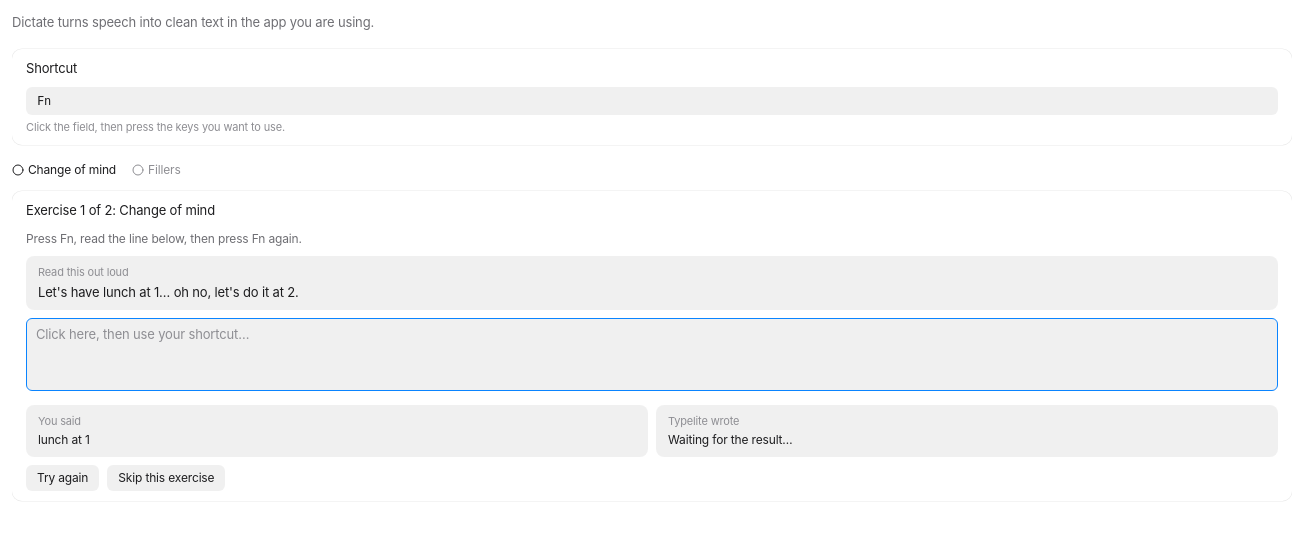
Test: Dictate exercises › shows a miss for a run that kept "at 1", and Try again resets the card
Type "Let's have lunch at 1." into the text box named "Try it" at (652, 354), box top-left (26, 318), bottom-right (1278, 391)
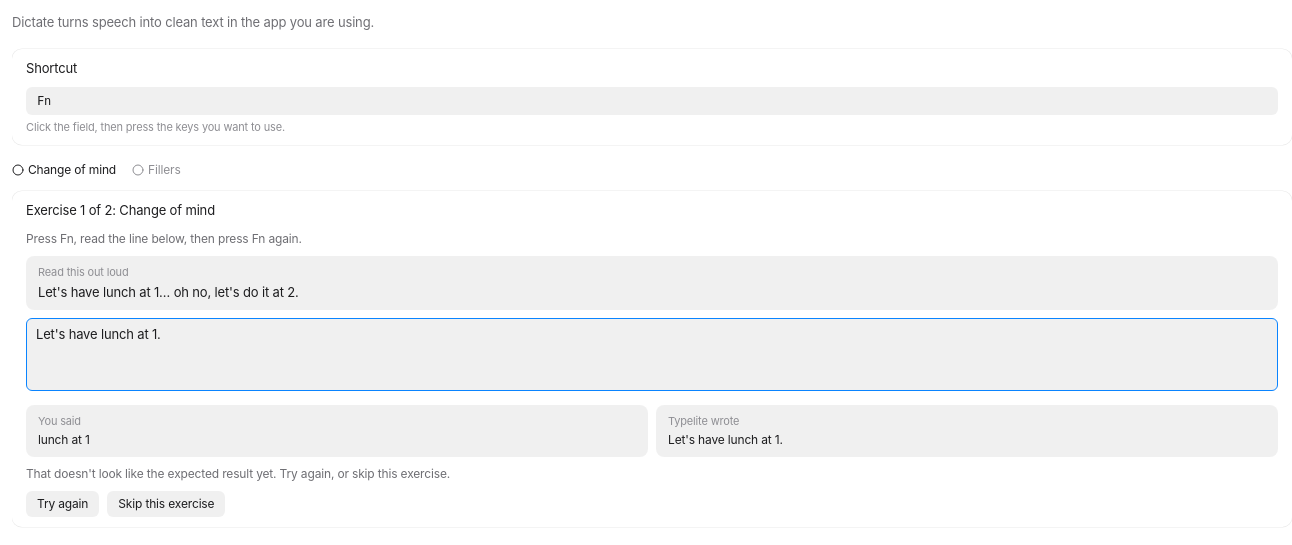
Result: the text "That doesn't look like the expected result yet. Try again, or skip this exercise." is shown at top-left (26, 466), bottom-right (450, 481)
Click the button "Try again" at (63, 504), box top-left (26, 491), bottom-right (99, 517)
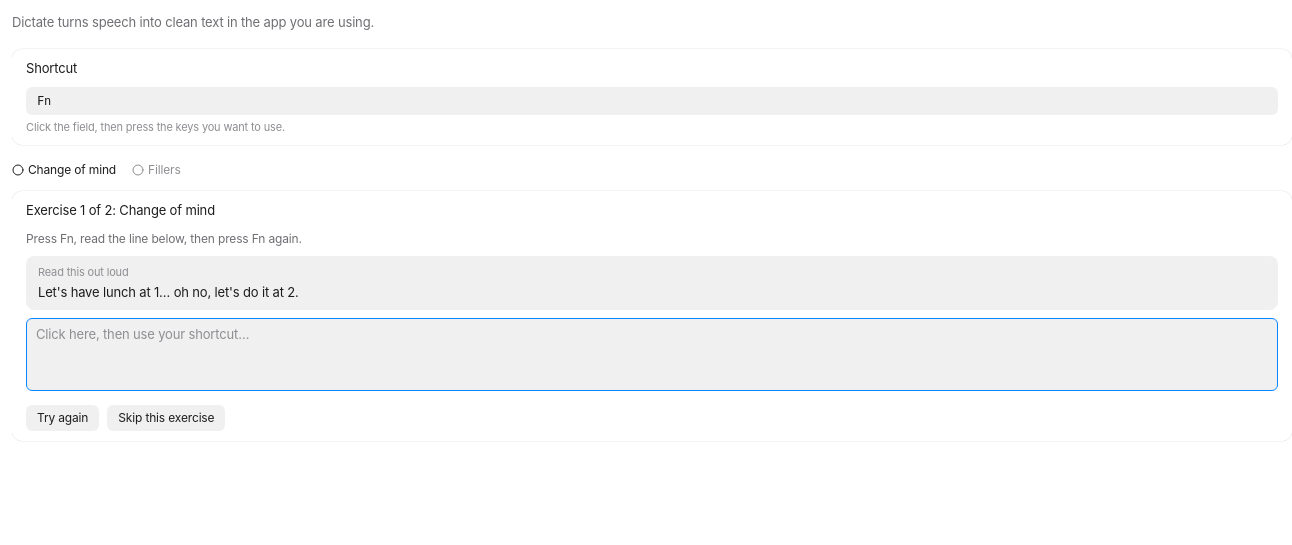
Result: the text box named "Try it" is empty at top-left (26, 318), bottom-right (1278, 391)
Result: the element with test id "before-after" is gone
Result: the text "expected result" is gone
